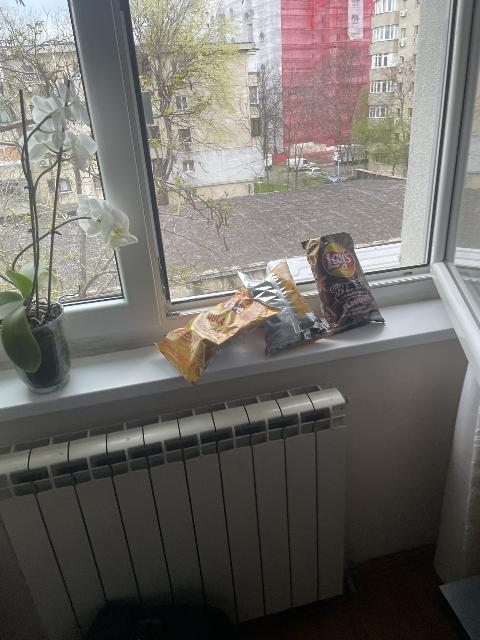Chio Cascaval 125g: (239, 263, 328, 355)
Chio Hula Hoops Cheese 70g: (157, 288, 273, 382)
Lays Beef Grilled Ribs 125g: (302, 232, 386, 334)
